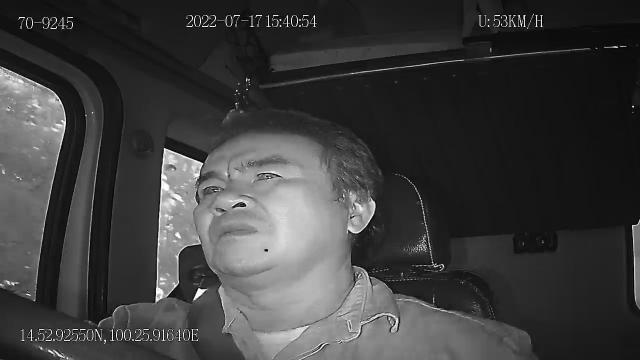SafeDriving: (246, 162, 292, 190), (194, 172, 232, 204)
Seatbelt: (186, 282, 247, 360)
